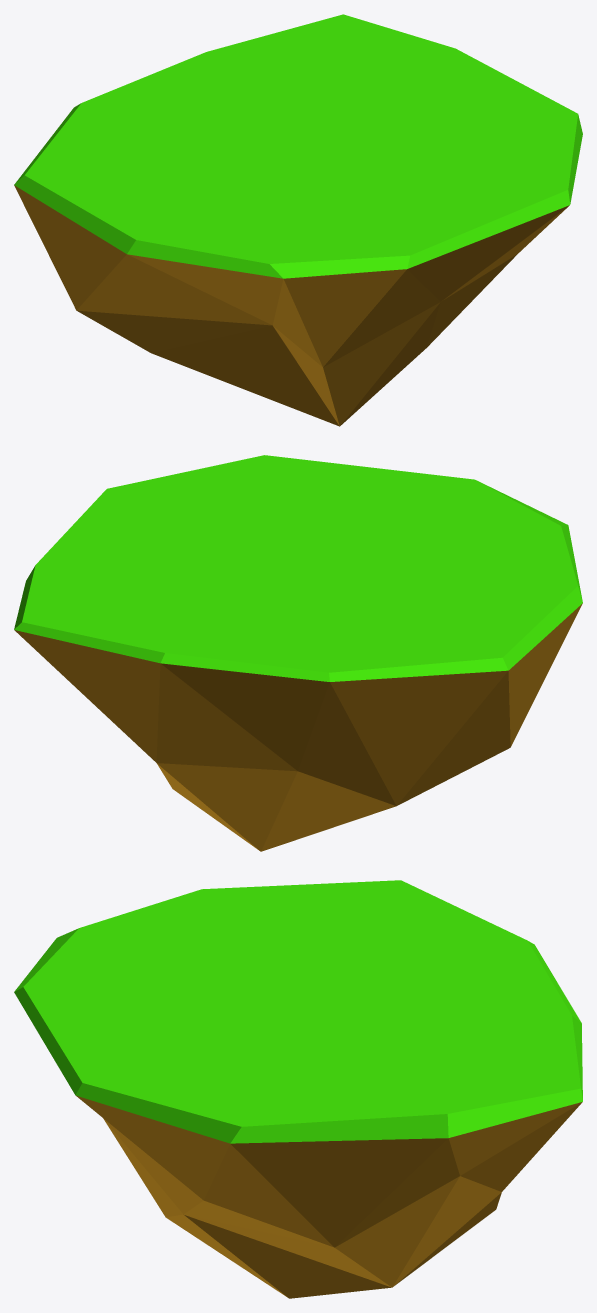
Rendered from SmallestHoverWorld4.fbx.
The picture shows the model from 3 angles, top to bottom: view 1: azimuth 30°, elevation 25°; view 2: azimuth 150°, elevation 25°; view 3: azimuth 270°, elevation 25°; orthographic projection. The views are drawn at different scales.
Parts seen in each view (by area): view 1: Icosphere; view 2: Icosphere; view 3: Icosphere.
Boxes of the visible parts, x1,y1,x2,y2 form: Icosphere: [14, 14, 582, 426]; Icosphere: [14, 455, 582, 851]; Icosphere: [14, 880, 582, 1298].
Size of the model in its own units: 865 by 418 by 829.
